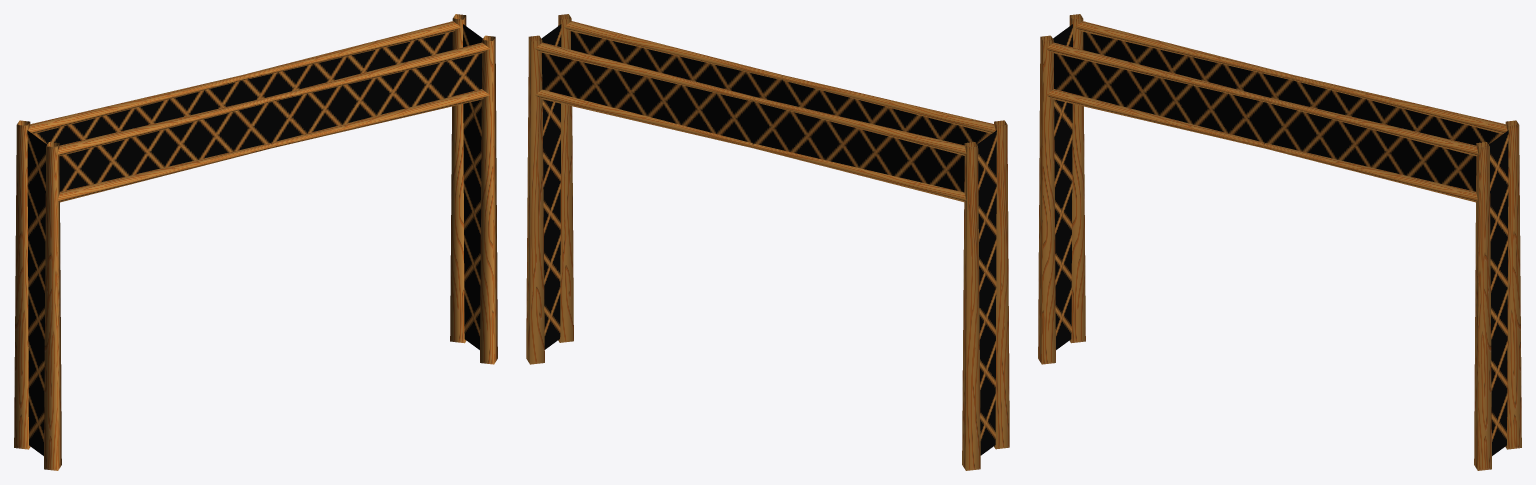
Rendered from Semaphore_1.FBX.
3 renders of one model, left to right at view 1: azimuth 30°, elevation 25°; view 2: azimuth 150°, elevation 25°; view 3: azimuth 330°, elevation 25°, orthographic.
Visible parts, largest first — view 1: Cylinder085; view 2: Cylinder085; view 3: Cylinder085.
Boxes of the visible parts, x1,y1,x2,y2 form: Cylinder085: (14, 14, 497, 470); Cylinder085: (526, 14, 1009, 470); Cylinder085: (1038, 14, 1521, 470).
Size of the model in its own units: 685 by 464 by 104.
